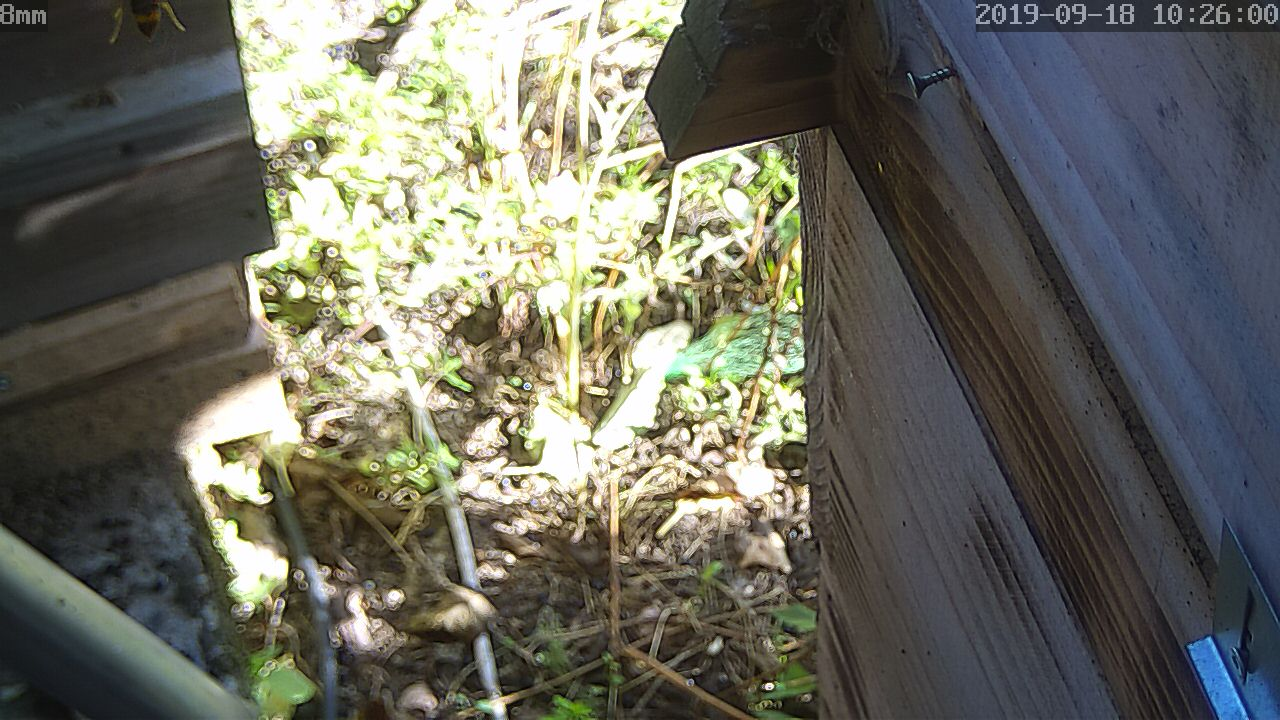hornet: (100, 3, 191, 52)
